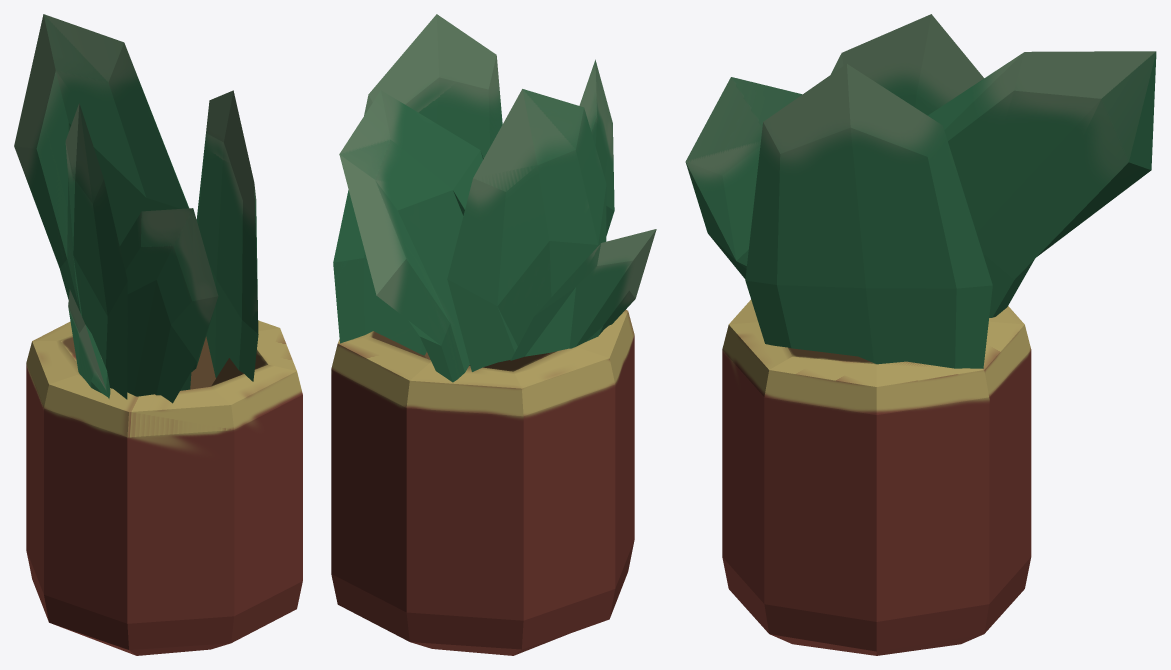
The model's file is fernando.fbx.
3 renders of one model, left to right at view 1: azimuth 30°, elevation 25°; view 2: azimuth 150°, elevation 25°; view 3: azimuth 270°, elevation 25°, orthographic. The views are drawn at different scales.
Parts seen in each view (by area): view 1: Cube, Cube.006; view 2: Cube, Cube.006; view 3: Cube.006, Cube.
Boxes of the visible parts, x1,y1,x2,y2 form: Cube: (26, 320, 302, 655); Cube.006: (14, 14, 258, 403); Cube: (331, 310, 634, 655); Cube.006: (333, 14, 656, 382); Cube.006: (685, 14, 1156, 368); Cube: (722, 299, 1031, 655).
Bounding box in the file's own units: 100 × 210 × 153.
2 materials, 2 textured.
